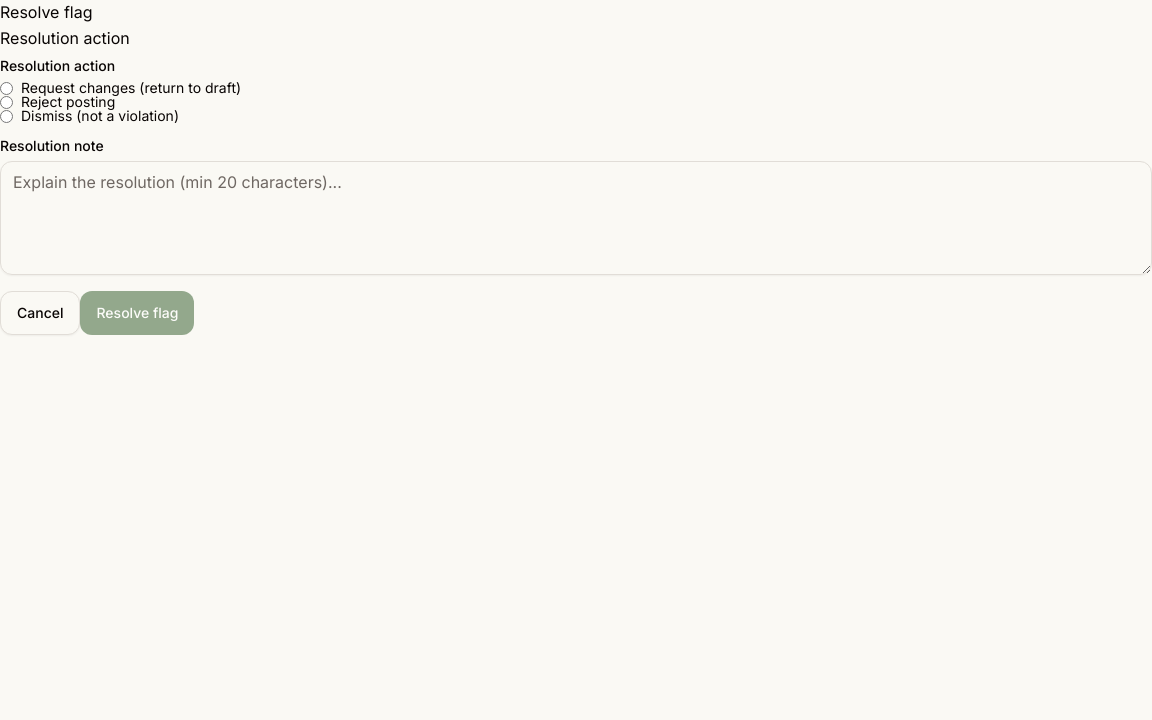
Test case: ResolveFlagModal › submit enabled after selecting action and filling note
Click the radio button labelled "Request changes (return to draft)": x=6, y=88 [0,82,13,95]
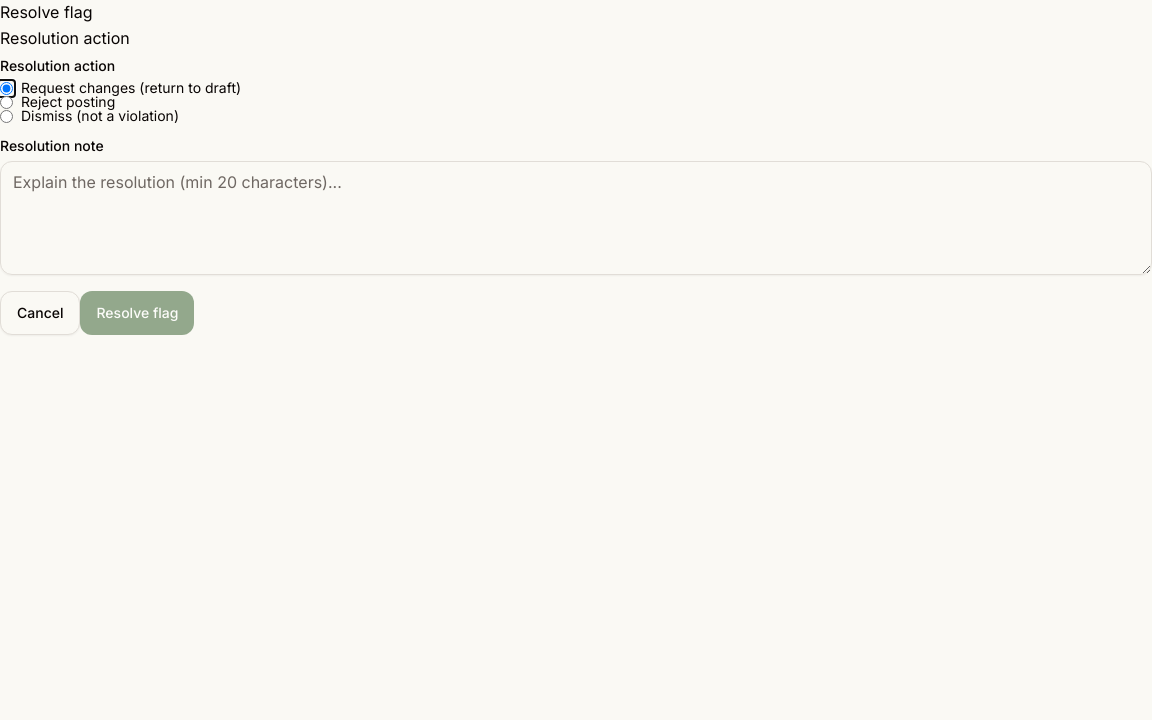
In the text box with test id "resolution-note-textarea": x=576, y=218 [0,161,1151,275], type "Posting requires correction of misleading salary information before resubmission."
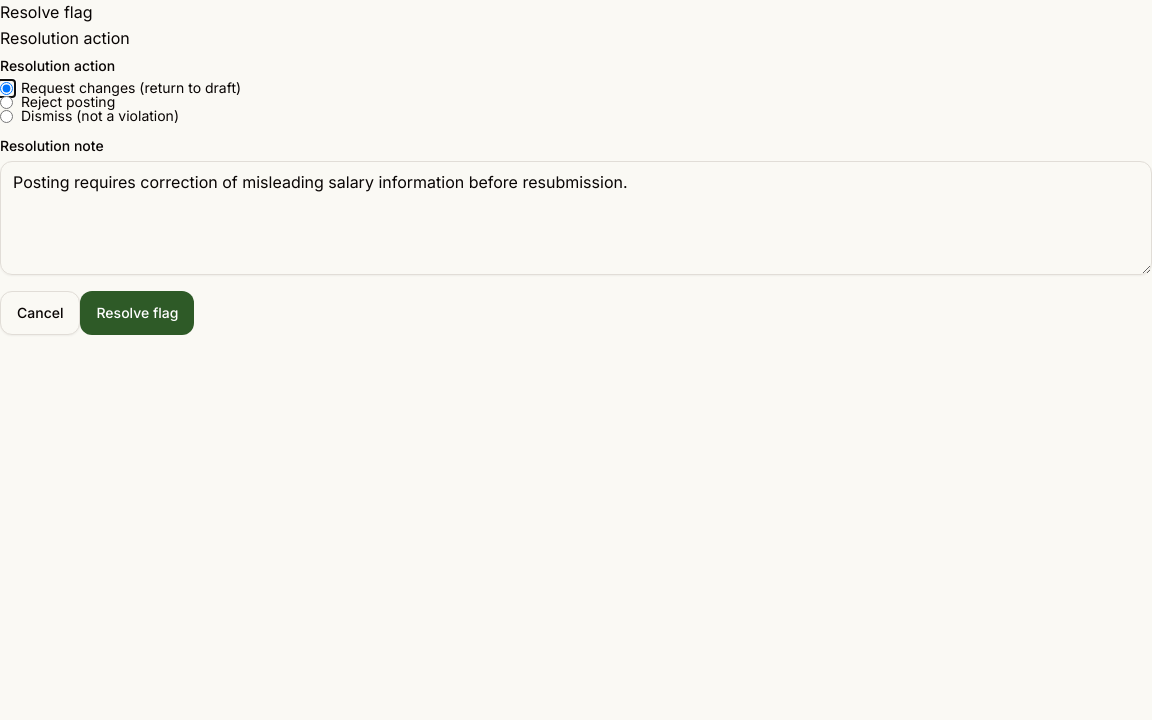
Now the button with test id "resolve-submit-button" is enabled, box [80,291,194,335]
